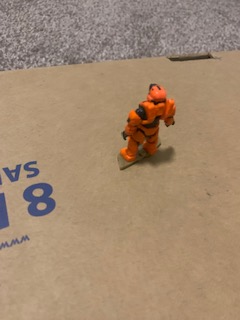soldier: (117, 78, 179, 168)
